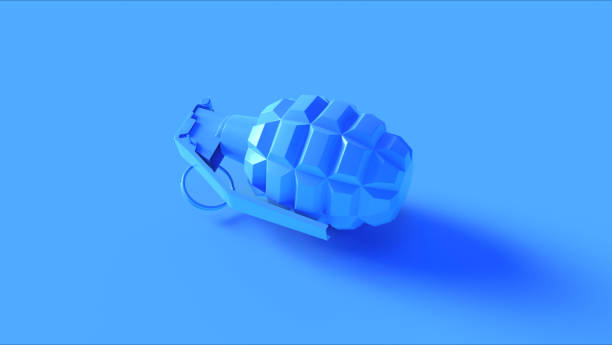e1: (173, 91, 417, 247)
